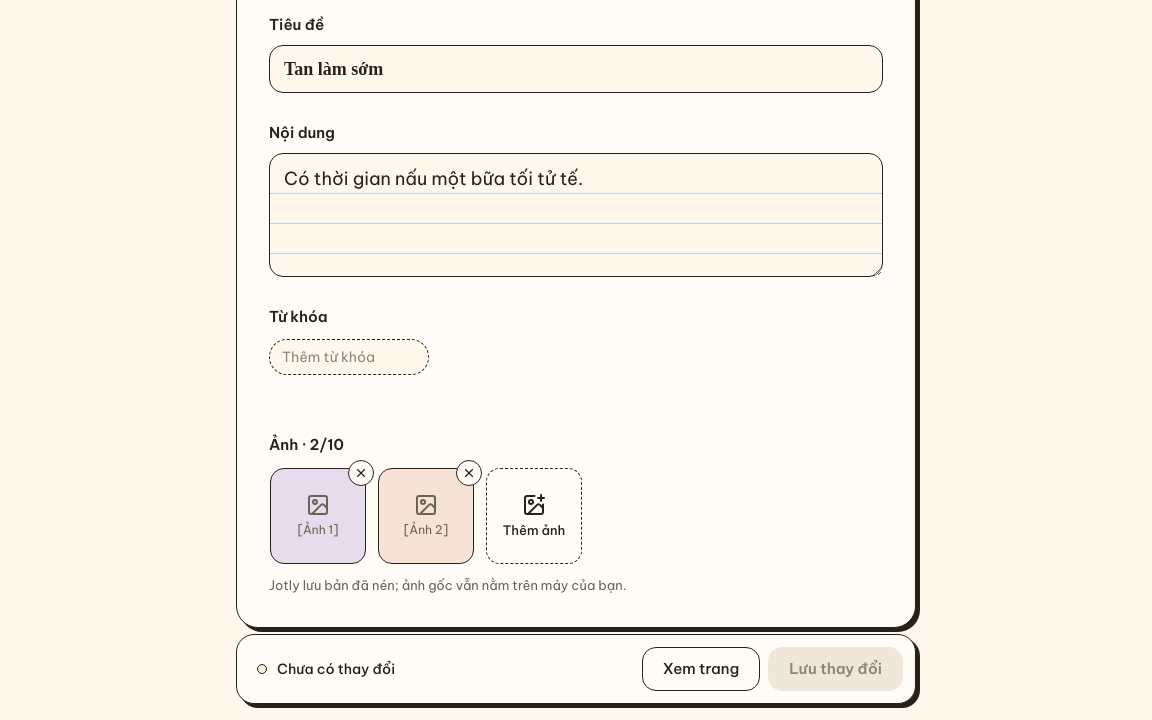
Scenario: Sửa một trang cũ › bỏ ảnh rồi Hủy thay đổi: không xóa gì trên máy chủ
This screenshot has width=1152, height=720.
(page scrolled)
Click the button named "Bỏ ảnh [Ảnh 2]": click(469, 473) [456,460,482,486]
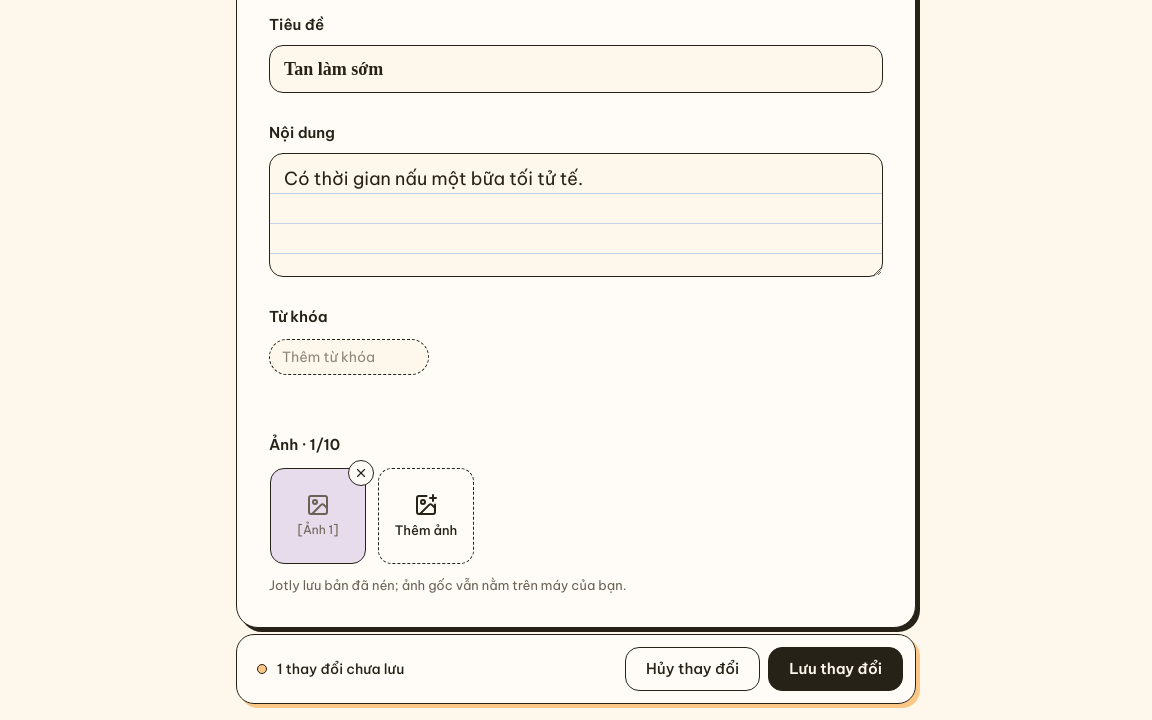
Click the button "Hủy thay đổi": click(693, 669) [625,647,760,691]
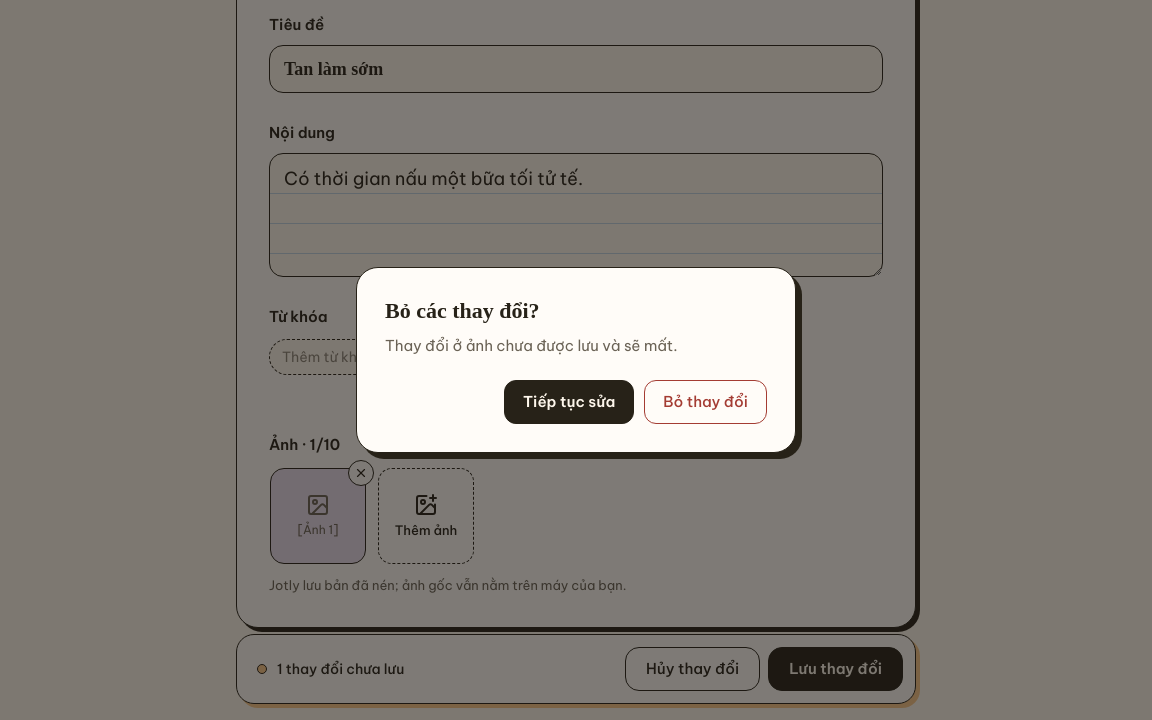
Click the button "Bỏ thay đổi": click(706, 402) [644,380,767,424]
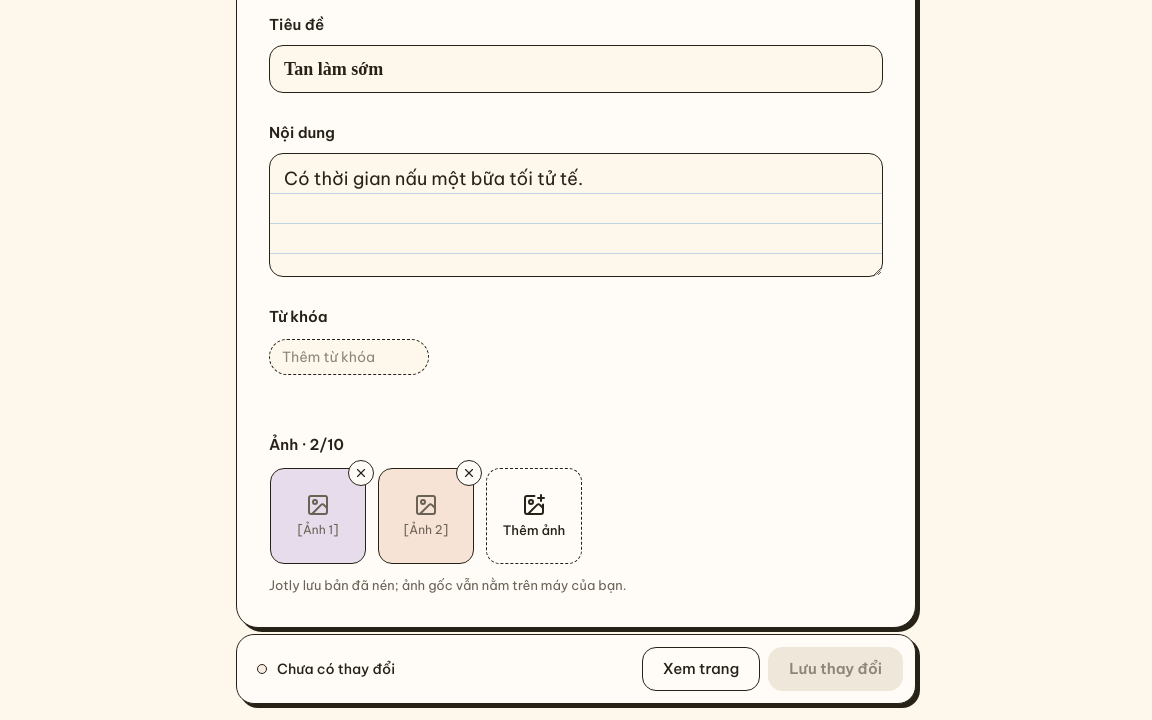
Expected: the text "2/10" is shown, [310,435,344,454]
